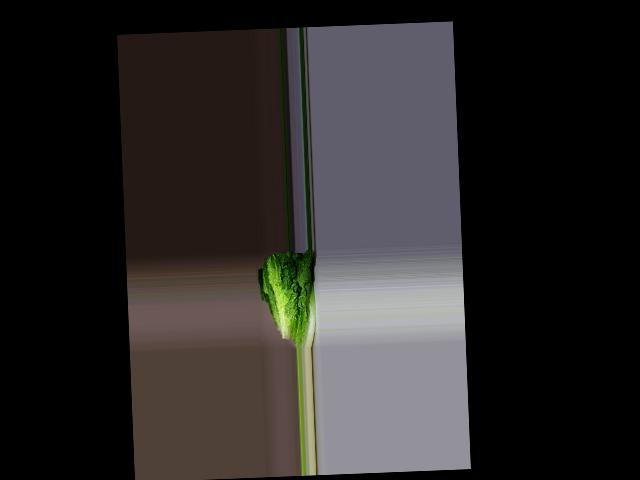lettuce: (264, 249, 319, 344)
